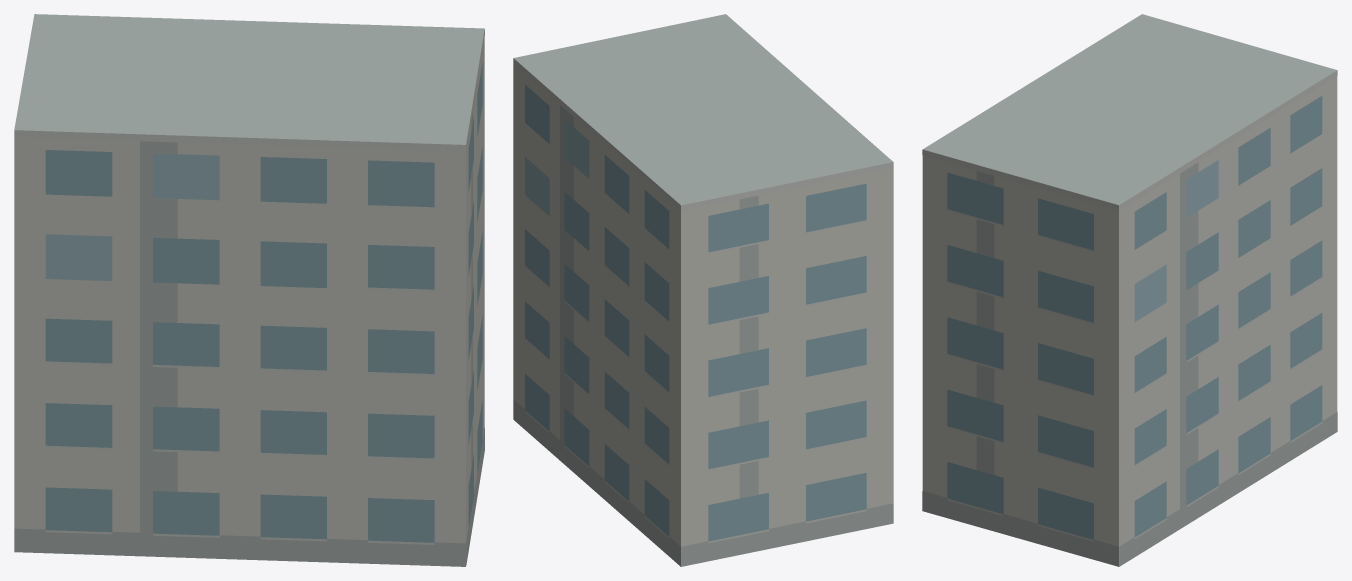
Rendered from survey-upis-32853574.glb.
The picture shows the model from 3 angles, left to right: view 1: azimuth 30°, elevation 25°; view 2: azimuth 150°, elevation 25°; view 3: azimuth 270°, elevation 25°; orthographic projection. The views are drawn at different scales.
Parts seen in each view (by area): view 1: survey-upis-32853574.tmp; view 2: survey-upis-32853574.tmp; view 3: survey-upis-32853574.tmp.
Boxes of the visible parts, x1,y1,x2,y2 form: survey-upis-32853574.tmp: (14,14,484,566); survey-upis-32853574.tmp: (513,14,893,566); survey-upis-32853574.tmp: (922,14,1337,566).
Bounding box in the file's own units: 16.79 × 14.8 × 15.4.
